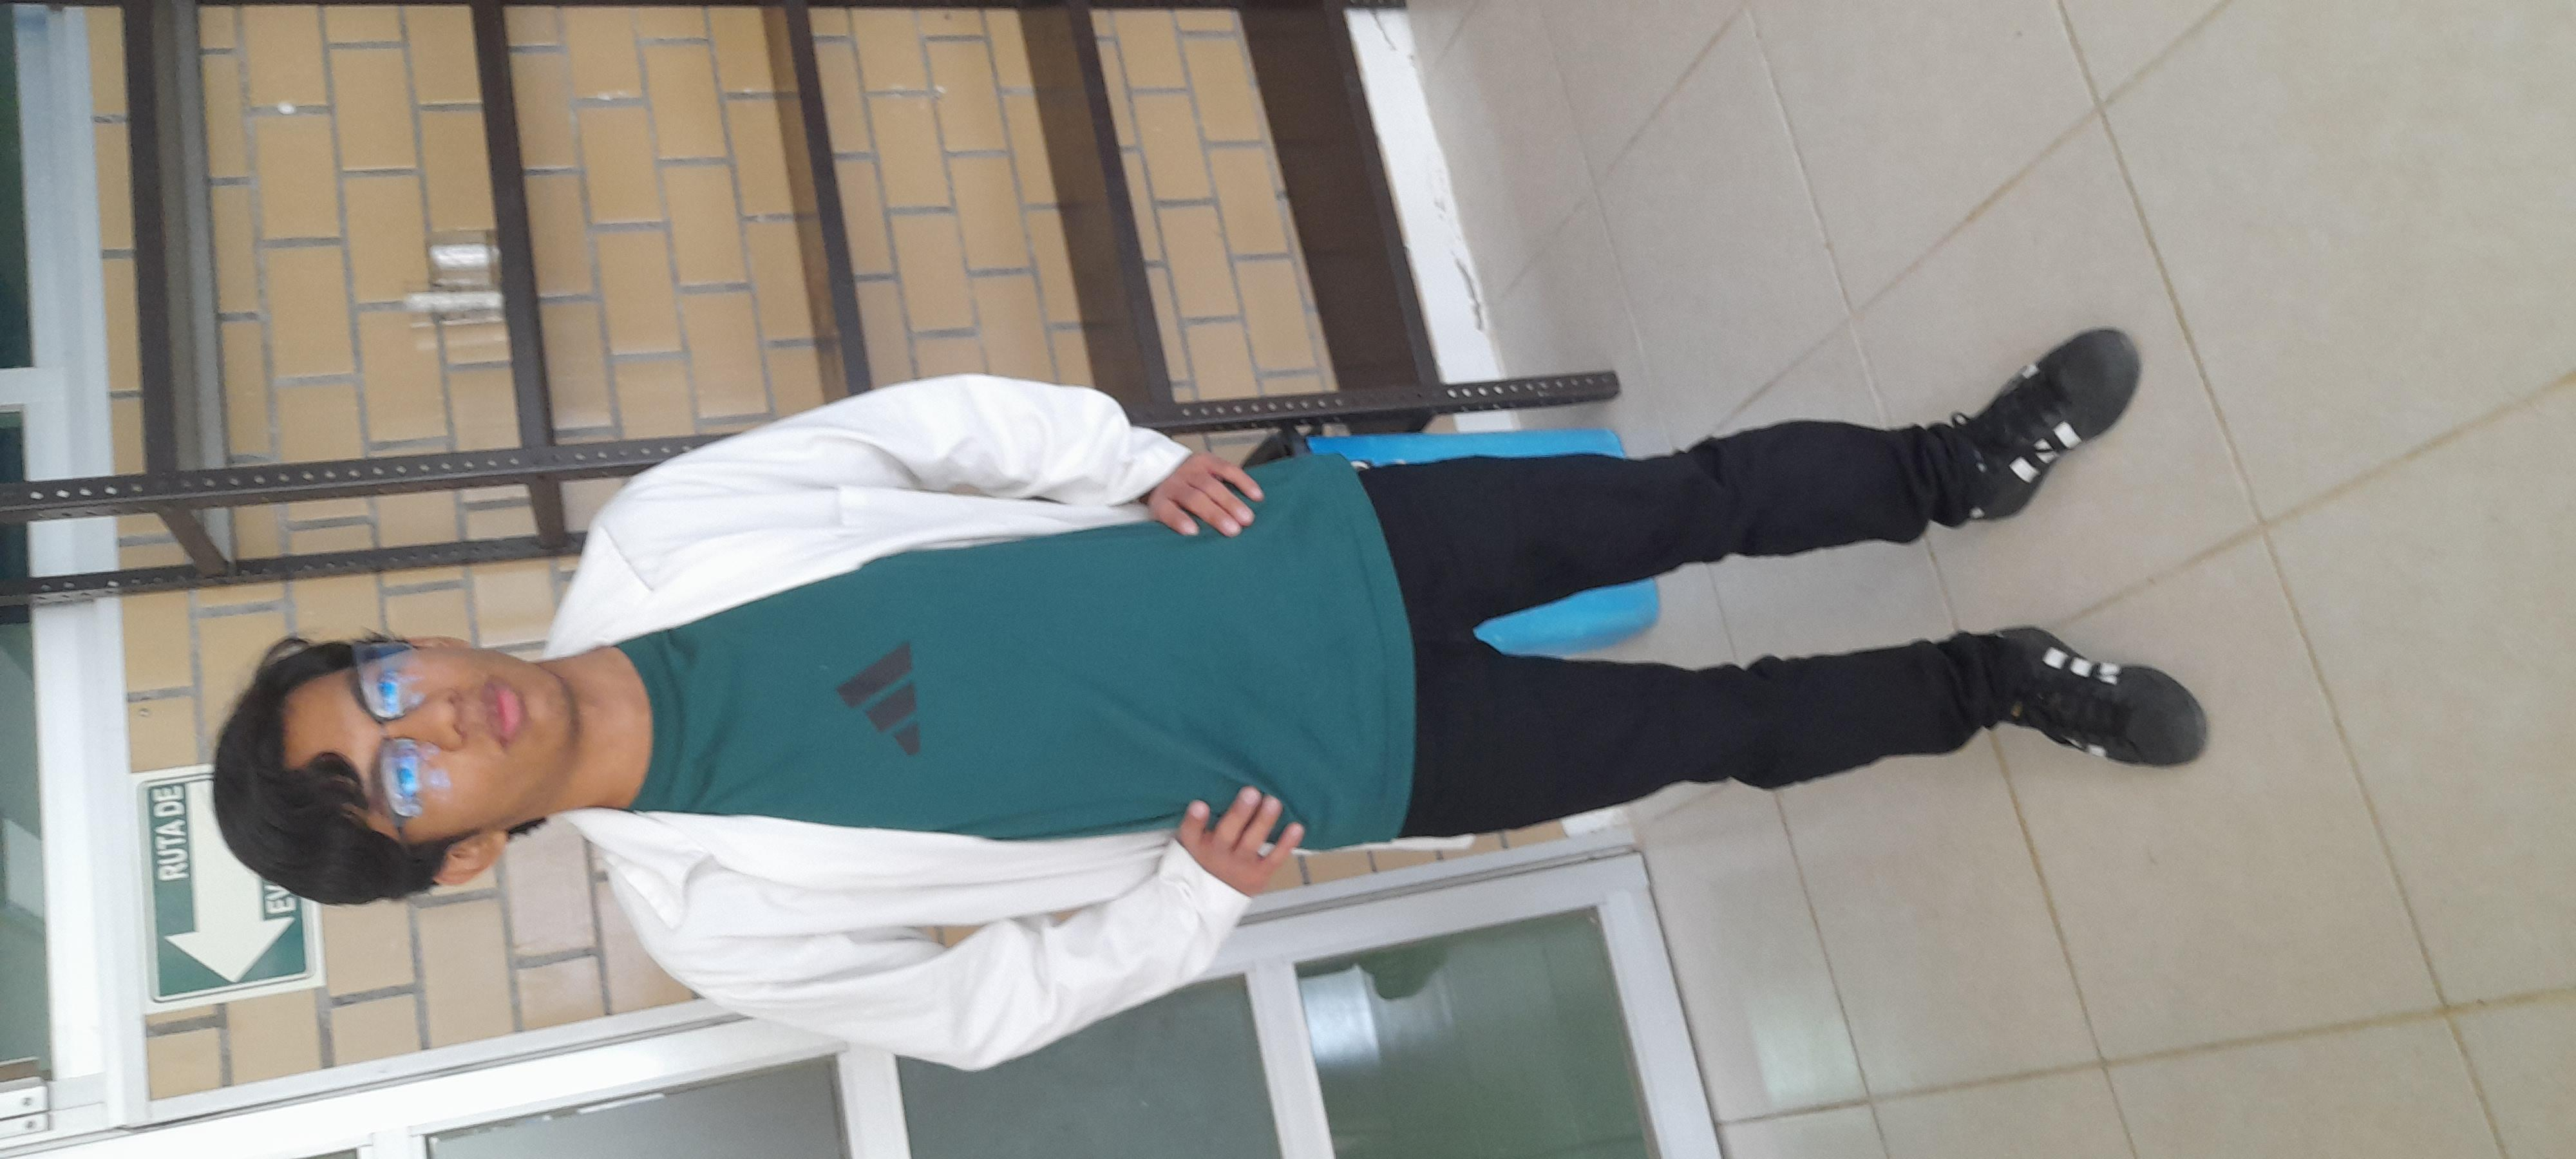Bata-Incorrecta: (228, 90, 2060, 1003)
